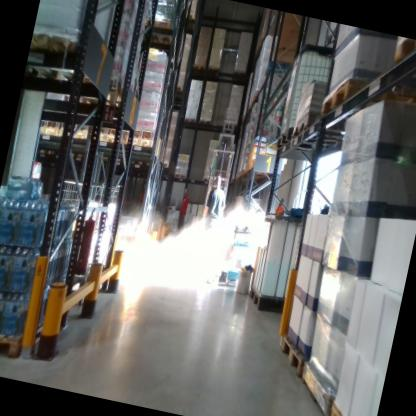pallet: (316, 69, 416, 146), (24, 29, 107, 99), (0, 306, 65, 370), (291, 358, 339, 416), (291, 112, 363, 150), (273, 328, 313, 382), (74, 76, 126, 115), (137, 14, 181, 54), (243, 281, 289, 318), (273, 128, 325, 158), (326, 398, 376, 416), (56, 121, 91, 145), (125, 132, 160, 154), (94, 130, 129, 152), (388, 37, 416, 63), (177, 5, 197, 34), (35, 118, 59, 142), (192, 63, 209, 75)
